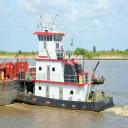tugboat: (17, 21, 115, 116)
